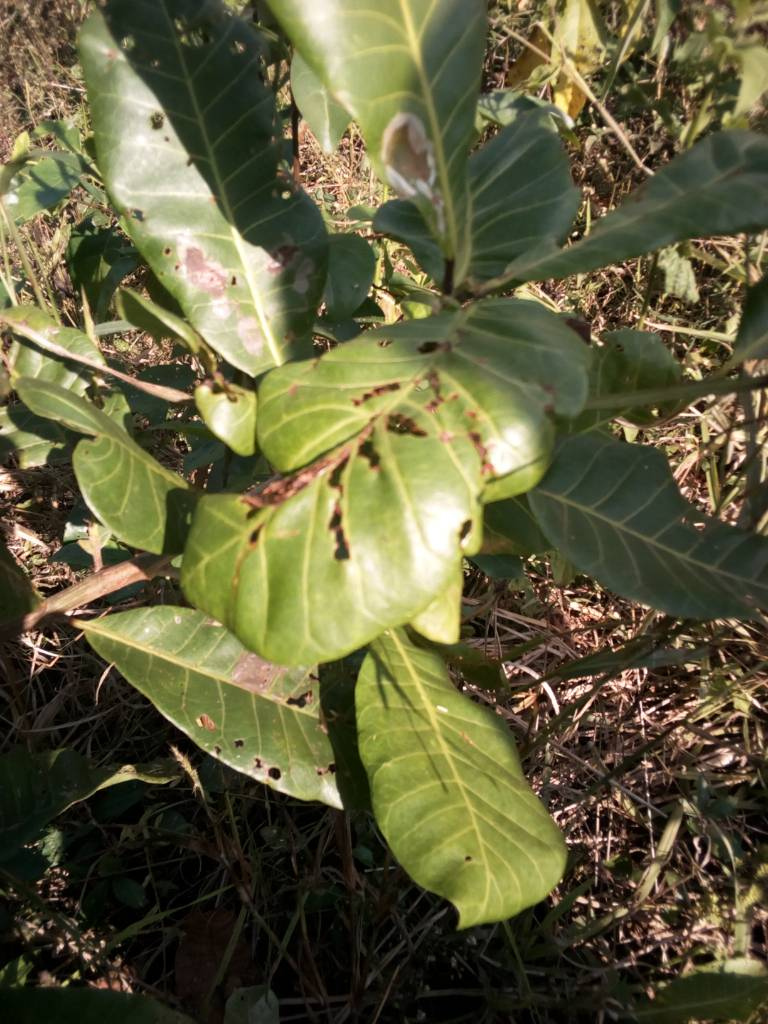Dysdercus wolkerii: (68, 1, 336, 420), (266, 3, 560, 288)
